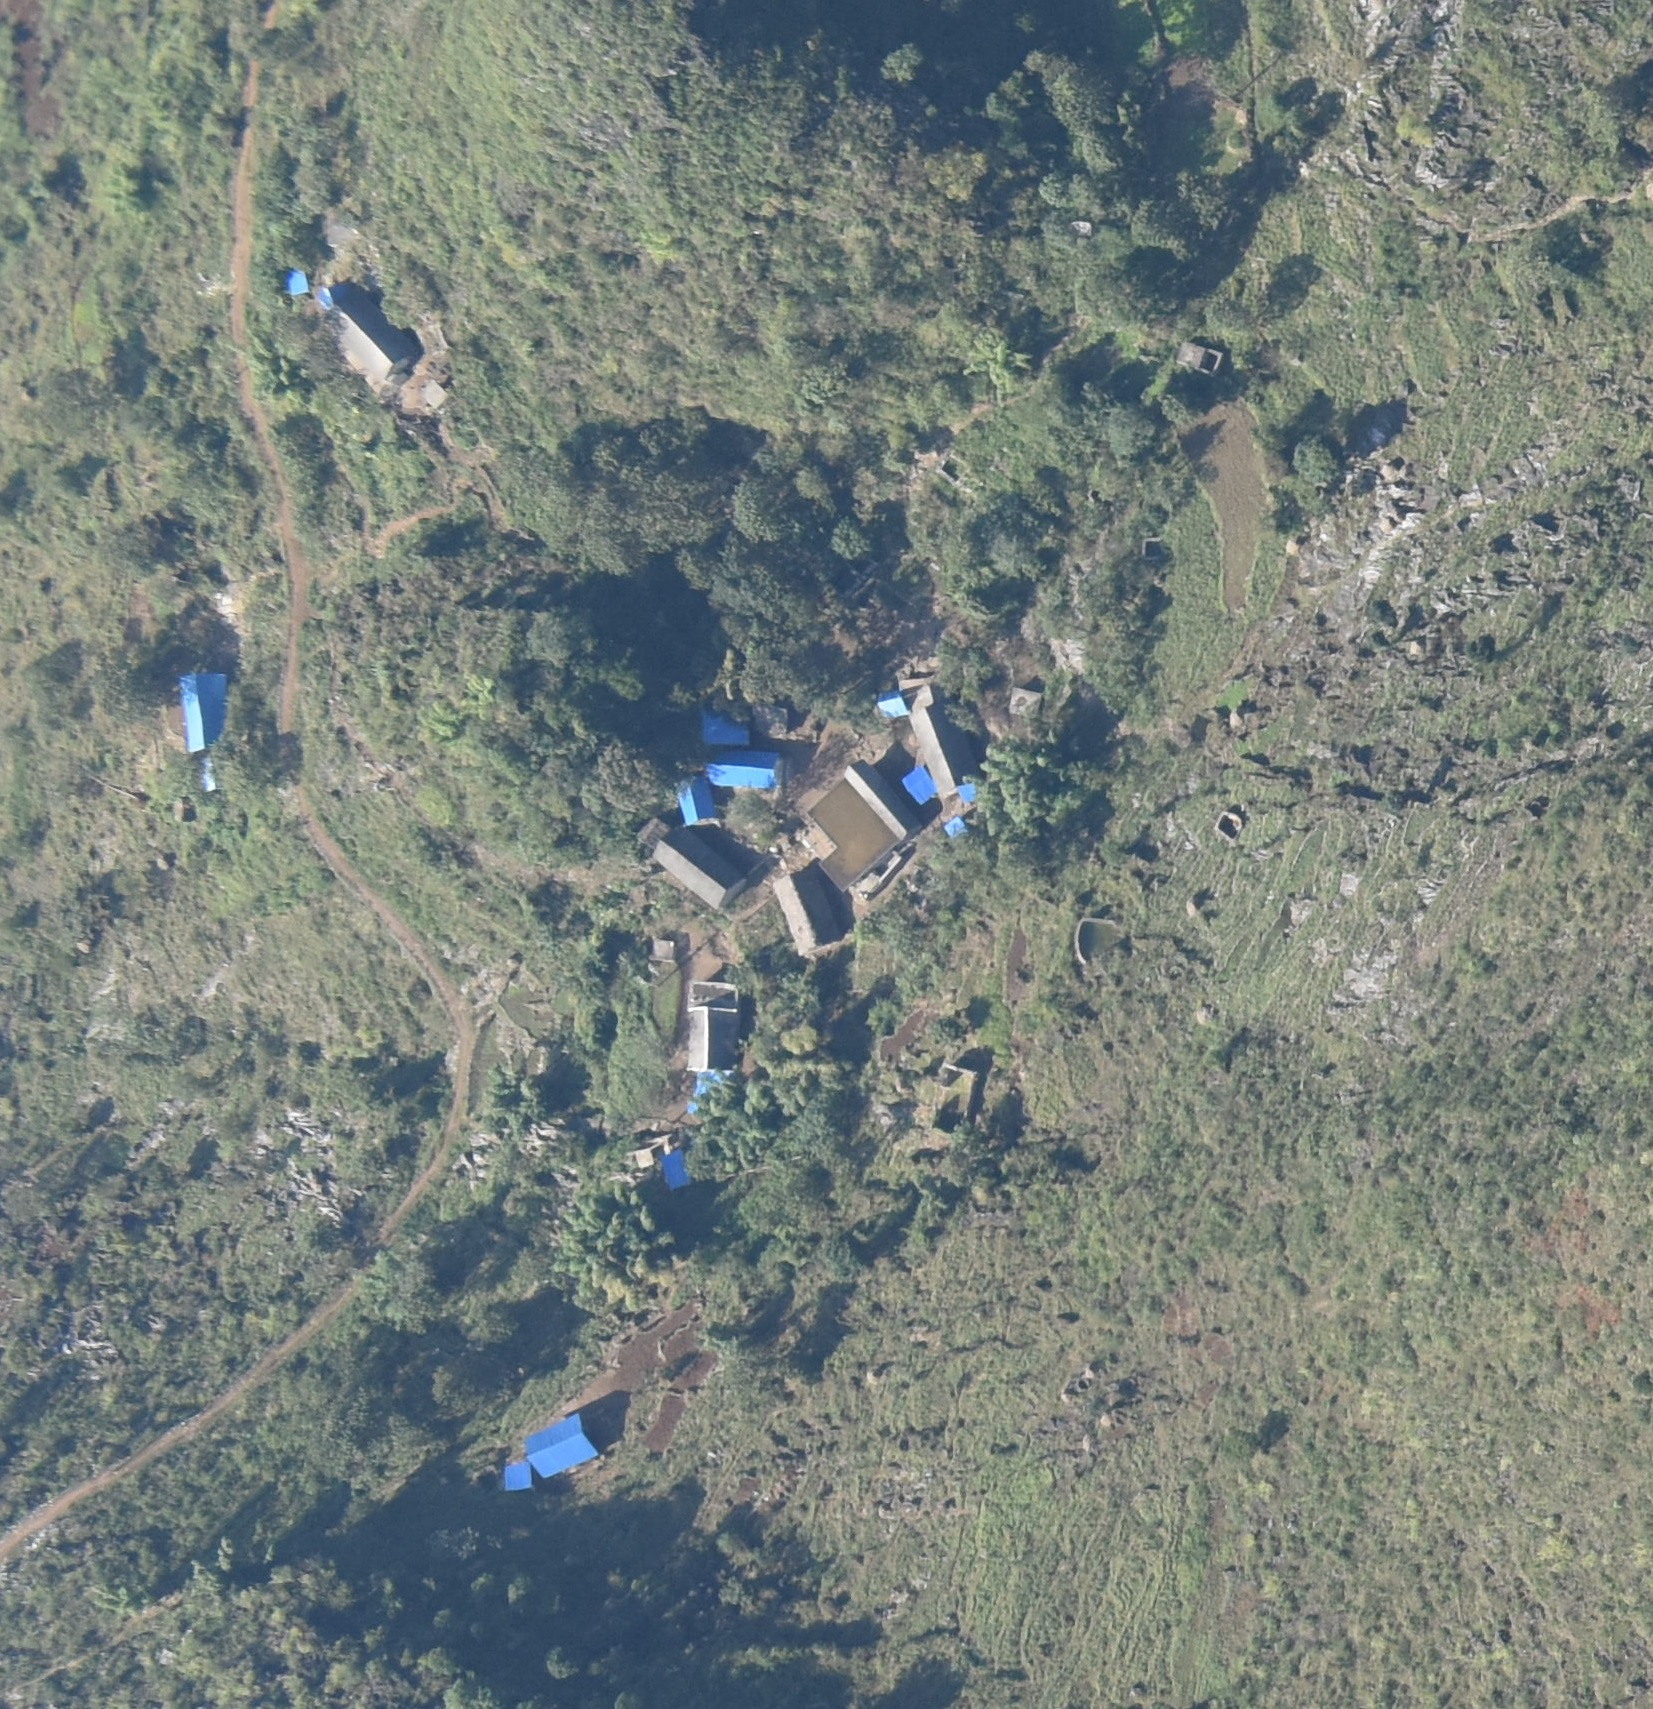building: (809, 760, 917, 889), (908, 678, 974, 797), (655, 829, 746, 905), (325, 304, 415, 377), (777, 868, 836, 953), (685, 982, 741, 1070), (1177, 340, 1223, 371), (753, 706, 791, 739), (637, 814, 666, 847), (1008, 686, 1041, 715), (424, 379, 449, 406), (650, 938, 676, 961)
prefabricated-house: (525, 1414, 602, 1478), (179, 670, 235, 750), (708, 749, 773, 786), (674, 778, 717, 824), (696, 709, 750, 743), (687, 1072, 727, 1113), (901, 764, 937, 804), (661, 1154, 694, 1191), (201, 756, 229, 793), (503, 1462, 534, 1491), (877, 692, 905, 722), (319, 283, 348, 307), (943, 816, 966, 839), (287, 270, 306, 294), (959, 782, 973, 800)
